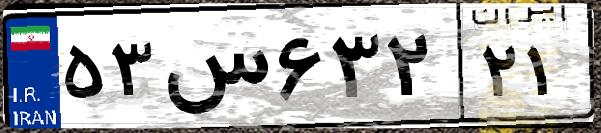1: (525, 38, 570, 115)
2: (385, 28, 445, 110), (475, 38, 525, 113)
3: (330, 28, 385, 110), (110, 28, 158, 98)
5: (57, 26, 110, 100)
6: (270, 28, 330, 110)
س: (158, 20, 270, 120)
